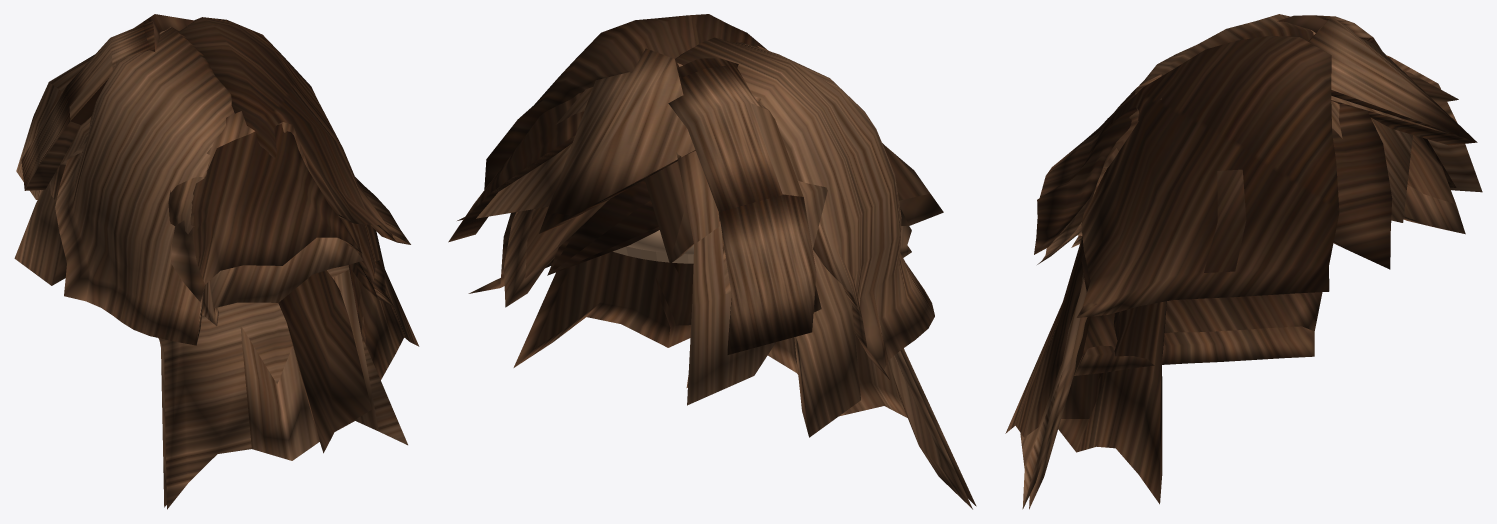
File: hair.fbx
3 renders of one model, left to right at view 1: azimuth 30°, elevation 25°; view 2: azimuth 150°, elevation 25°; view 3: azimuth 270°, elevation 25°, orthographic. The views are drawn at different scales.
Visible parts, largest first — view 1: Plane.025; view 2: Plane.025, Sphere; view 3: Plane.025.
Boxes of the visible parts, left/top/right/bottom form: Plane.025: left=14, top=14, right=419, bottom=509; Plane.025: left=448, top=14, right=976, bottom=509; Sphere: left=613, top=230, right=693, bottom=263; Plane.025: left=1005, top=14, right=1482, bottom=509.
Bounding box in the file's own units: 83.03 × 97.17 × 93.52.
Materials: 2 (1 with a texture image).
